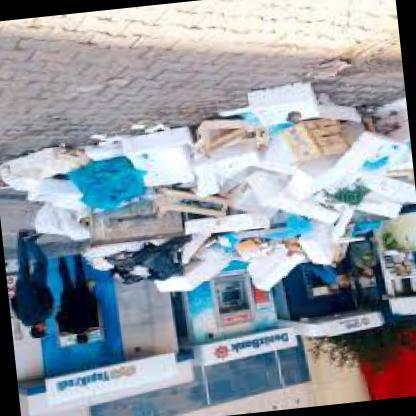Garbage: (168, 68, 410, 246), (95, 221, 342, 292), (0, 124, 193, 205)
